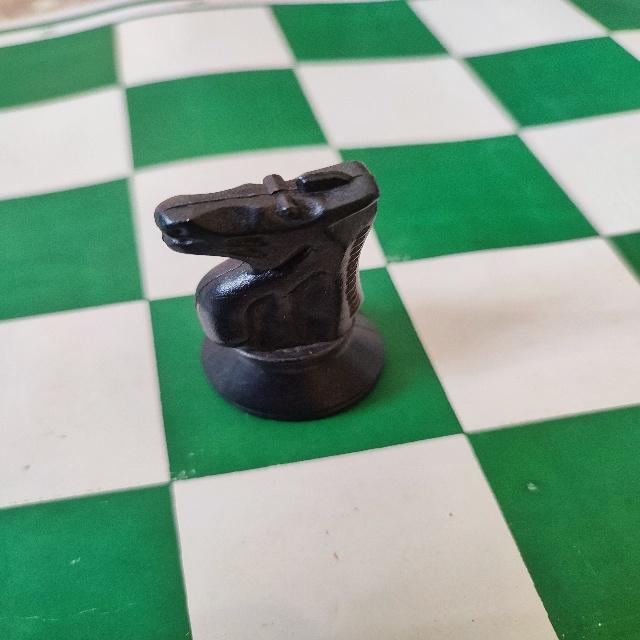Knight: (150, 159, 393, 427)
